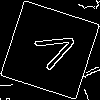V: (25, 25, 81, 76)
